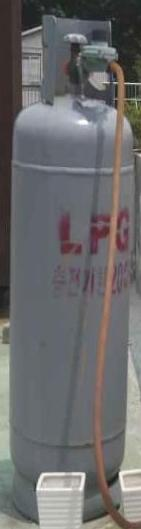cylinder: (0, 1, 141, 529)
